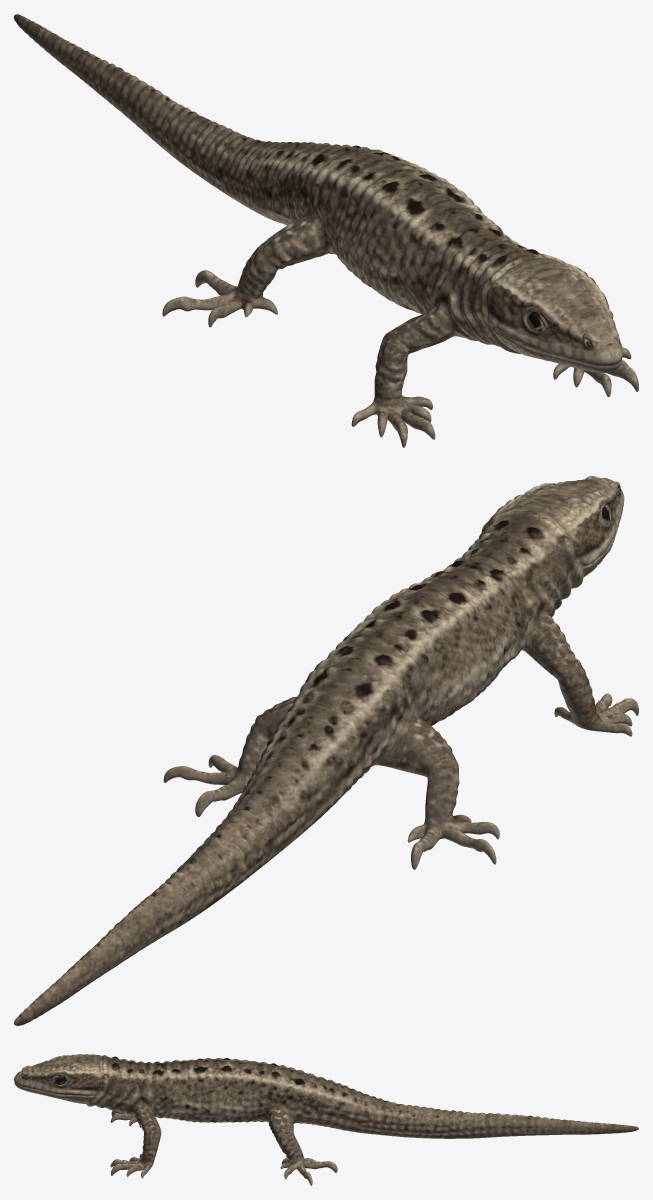
Rendered from raptor.glb.
3 renders of one model, top to bottom at view 1: azimuth 30°, elevation 25°; view 2: azimuth 150°, elevation 25°; view 3: azimuth 270°, elevation 25°, orthographic. The views are drawn at different scales.
Size of the model in its own units: 0.6079 by 0.2969 by 1.9.
1 material, 1 textured.
